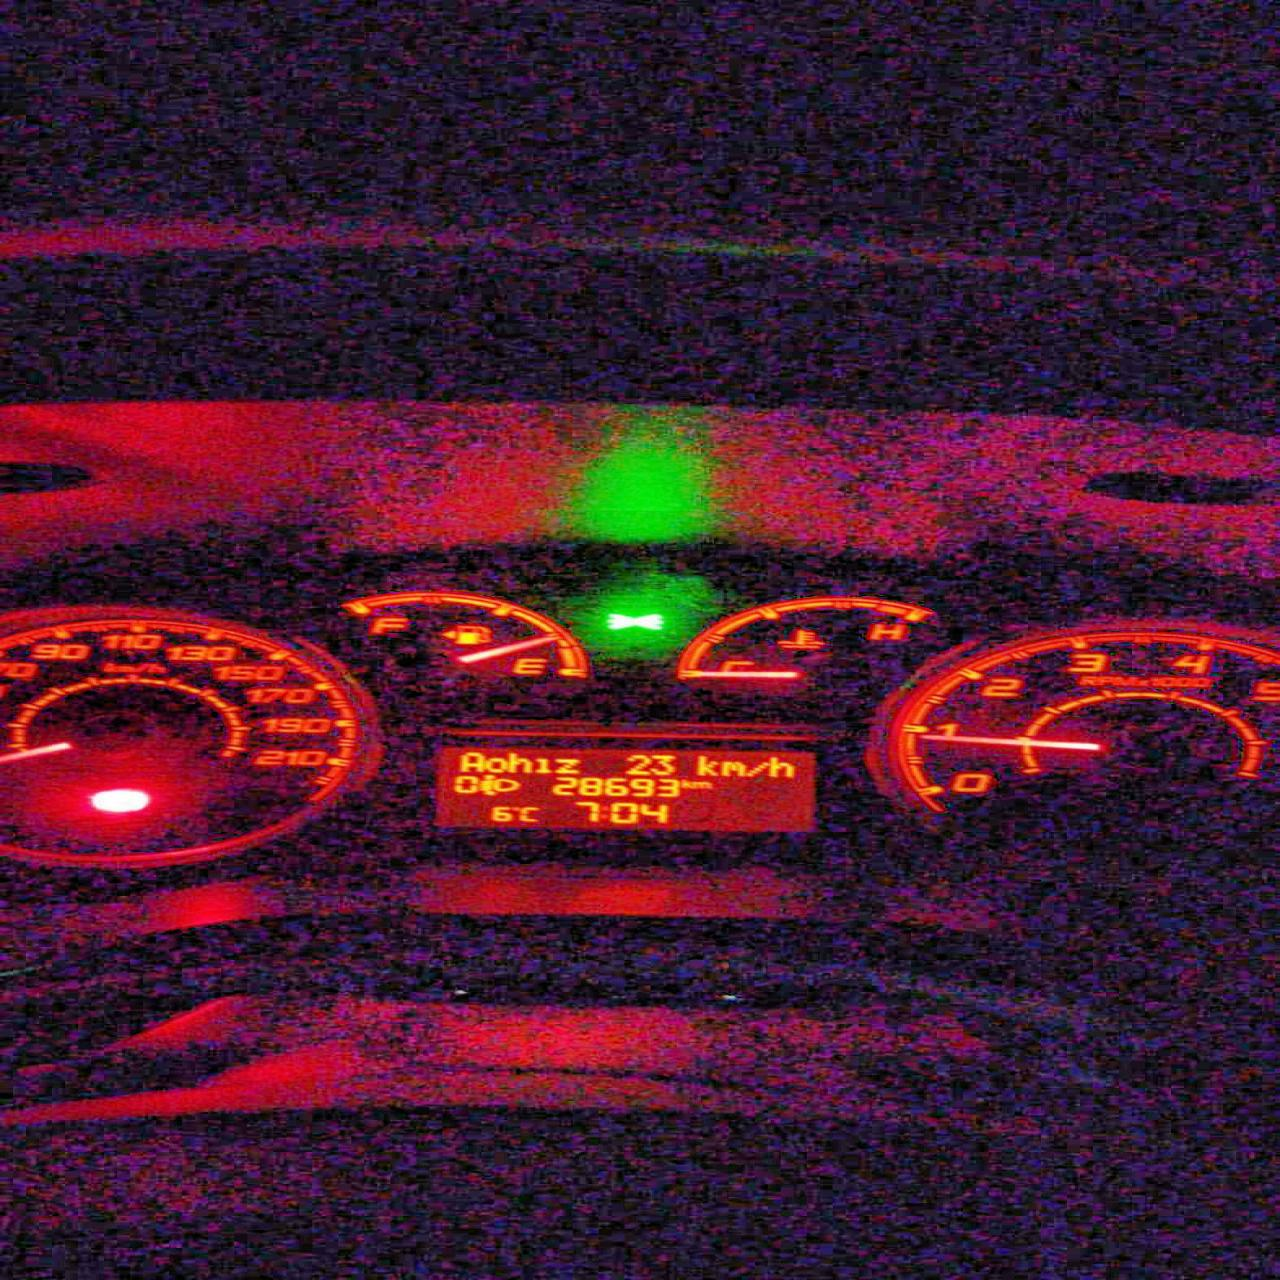0: (610, 801, 638, 824), (452, 775, 475, 794)
2: (622, 753, 649, 776), (551, 777, 578, 796)
3: (651, 753, 676, 777), (655, 777, 676, 797)
4: (639, 803, 669, 823)
6: (604, 776, 628, 798), (488, 805, 511, 822)
7: (571, 801, 597, 822)
8: (577, 777, 601, 796)
9: (628, 776, 652, 798)
X: (768, 755, 794, 778), (505, 750, 530, 774), (553, 756, 586, 774), (694, 755, 719, 776), (457, 751, 483, 770), (719, 760, 747, 776), (518, 805, 542, 824), (747, 758, 767, 776), (483, 756, 504, 771), (532, 756, 550, 774), (597, 804, 608, 821), (692, 779, 709, 790), (680, 778, 692, 788)
odometer: (437, 747, 818, 832)
